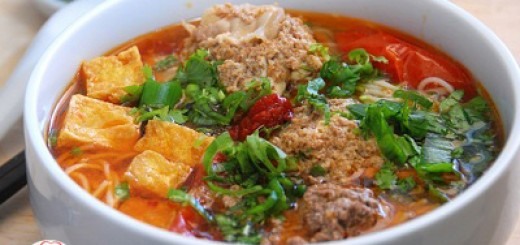onion: (383, 96, 472, 178)
rieu: (186, 3, 322, 95), (280, 102, 382, 185)
tofu: (61, 92, 142, 154), (137, 115, 217, 166), (82, 45, 149, 99)
